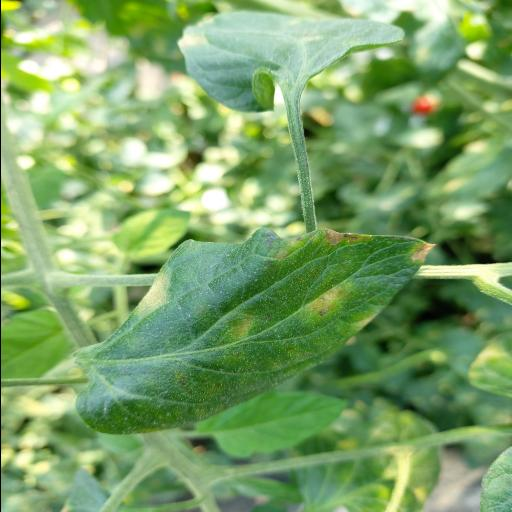disease_tomato: (74, 227, 436, 435)
